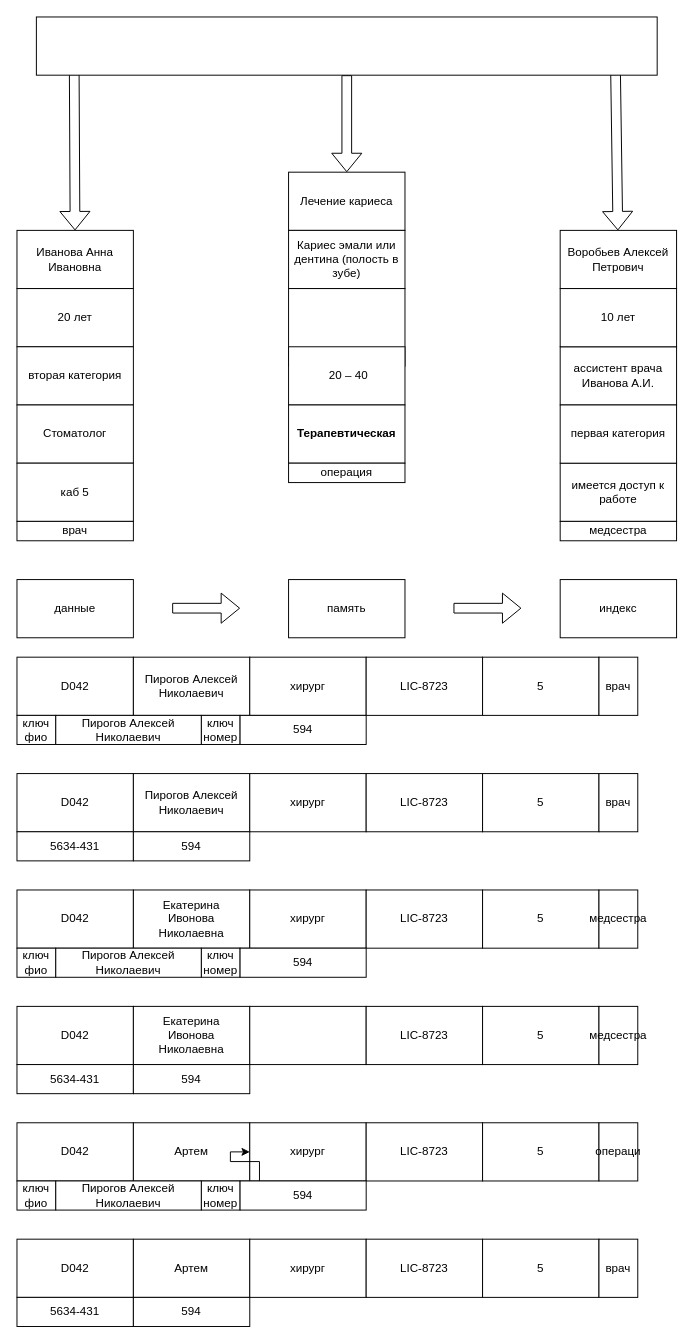
The diagram is 694 pixels wide and 1343 high, and some of its shapes have lost their labels. The shapes that lost their labels are listed below. From the top down, each one's centre as x and y in pixels, then its label:
point 346,45: стоматологическое отделение
point 346,327: Восстановление формы зуба, устранение боли, предотвращение разрушения.
